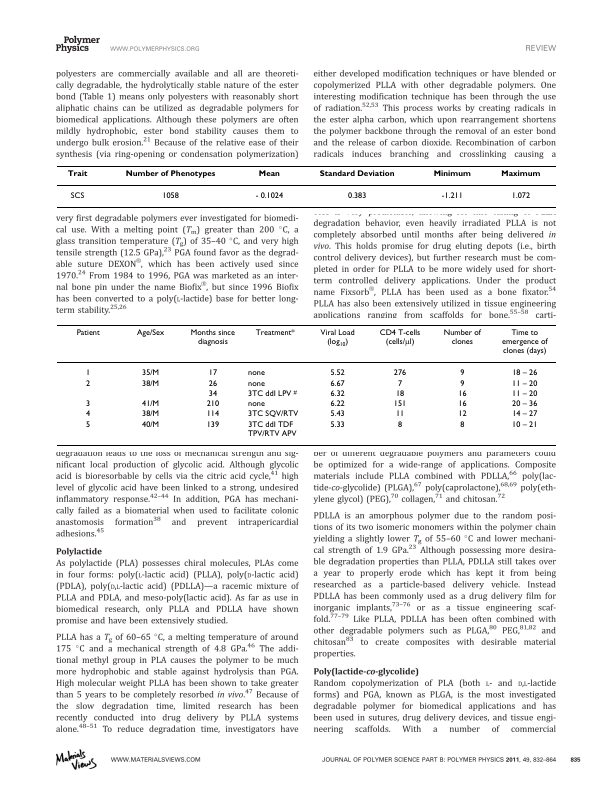borderless: (56, 323, 556, 445), (56, 164, 556, 207)
cell: (500, 327, 548, 356), (247, 419, 297, 438), (378, 326, 421, 348), (189, 327, 235, 346), (124, 169, 216, 178), (319, 327, 355, 348), (442, 327, 481, 346), (318, 169, 395, 178), (247, 409, 299, 419), (247, 388, 297, 398), (254, 327, 295, 337), (500, 169, 541, 178), (432, 169, 471, 178), (135, 327, 165, 337), (511, 368, 538, 378), (511, 378, 538, 388), (511, 399, 538, 409), (511, 409, 538, 419), (511, 419, 538, 429), (75, 327, 100, 337), (511, 389, 538, 398), (254, 191, 284, 199), (257, 169, 280, 178), (66, 169, 88, 178), (141, 368, 160, 378), (141, 378, 160, 388), (141, 399, 160, 409), (141, 409, 160, 419), (141, 419, 160, 429), (440, 191, 463, 199), (247, 368, 265, 378), (247, 378, 265, 388), (247, 399, 265, 409), (510, 191, 531, 199), (329, 368, 345, 378), (329, 378, 345, 388), (329, 399, 345, 409), (329, 409, 345, 419), (329, 419, 345, 429), (347, 191, 367, 199), (392, 368, 407, 378), (205, 399, 220, 409), (392, 399, 407, 409), (205, 409, 220, 419), (205, 419, 220, 429), (329, 389, 345, 398), (161, 191, 179, 199), (69, 191, 85, 199), (207, 368, 218, 378), (207, 378, 218, 388), (394, 409, 405, 419), (457, 399, 467, 409), (457, 409, 467, 419), (207, 389, 218, 398), (394, 389, 405, 398), (457, 389, 467, 398), (396, 378, 403, 388), (396, 419, 403, 429), (85, 368, 91, 378), (459, 368, 465, 378), (85, 378, 91, 388), (459, 378, 465, 388), (85, 399, 91, 409), (85, 409, 91, 419), (85, 419, 91, 429), (459, 419, 465, 429)
